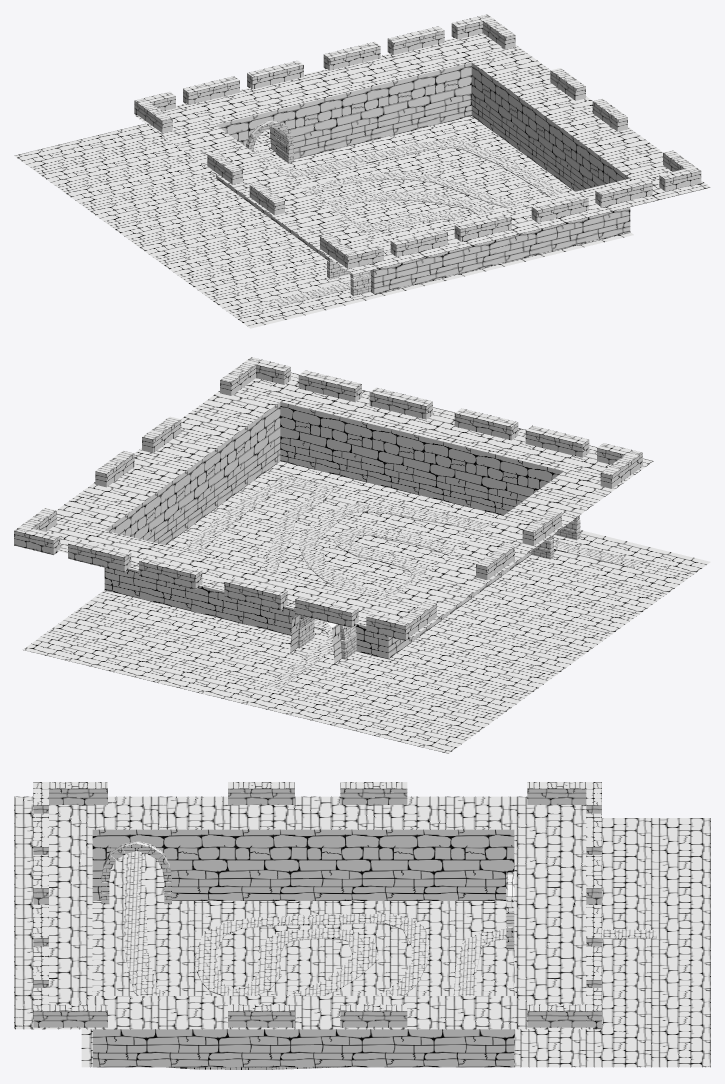
Rendered from FinalBoardSwap.glb.
3 renders of one model, top to bottom at view 1: azimuth 30°, elevation 25°; view 2: azimuth 150°, elevation 25°; view 3: azimuth 270°, elevation 25°, orthographic. The views are drawn at different scales.
Parts seen in each view (by area): view 1: Cube.002, Plane, Cube, Cube.003, Cube.001, Cube.004; view 2: Plane, Cube.002, Cube, Cube.003, Cube.001, Cube.004; view 3: Cube.002, Plane, Cube, Cube.003, Cube.004, Cube.001.
Boxes of the visible parts, x1,y1,x2,y2 form: Cube.002: (135, 33, 710, 294); Plane: (14, 116, 633, 328); Cube: (134, 14, 701, 268); Cube.003: (253, 138, 565, 305); Cube.001: (246, 120, 293, 163); Cube.004: (327, 257, 370, 296); Plane: (23, 461, 710, 753); Cube.002: (46, 372, 653, 663); Cube: (14, 357, 642, 640); Cube.003: (183, 476, 642, 689); Cube.001: (297, 615, 356, 659); Cube.004: (531, 515, 580, 559); Cube.002: (14, 796, 592, 1067); Plane: (81, 818, 710, 1067); Cube: (33, 782, 601, 1029); Cube.003: (124, 851, 656, 1069); Cube.004: (101, 841, 171, 904); Cube.001: (506, 872, 514, 949).
Size of the model in its own units: 17 by 2.72 by 17.72.
Materials: 2 (2 with a texture image).
